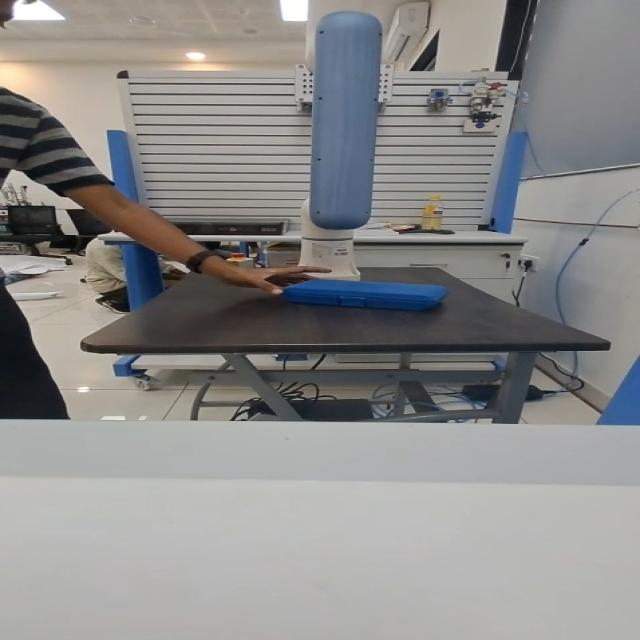top-surface: (305, 281, 425, 293)
